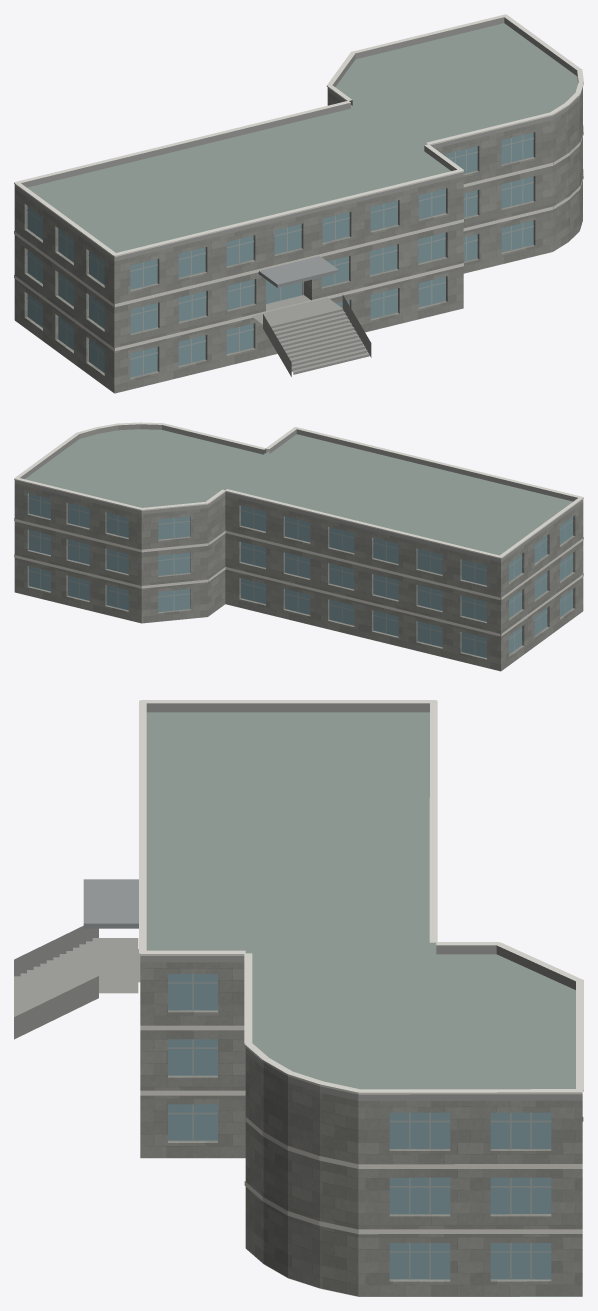
The picture shows the model from 3 angles, top to bottom: view 1: azimuth 30°, elevation 25°; view 2: azimuth 150°, elevation 25°; view 3: azimuth 270°, elevation 25°; orthographic projection. The views are drawn at different scales.
Visible parts, largest first — view 1: rotc__wall, rotc__roof, rotc__glass, rotc__trim, rotc__parapet, rotc__externalStairRisers, rotc__externalStairTreads, rotc__frame, rotc__canopy, rotc__externalStairLanding, rotc__externalStairSides; view 2: rotc__wall, rotc__roof, rotc__glass, rotc__trim, rotc__parapet, rotc__frame; view 3: rotc__roof, rotc__wall, rotc__glass, rotc__trim, rotc__parapet, rotc__externalStairSides, rotc__externalStairTreads, rotc__canopy, rotc__frame, rotc__externalStairLanding.
Boxes of the visible parts, <box> form: rotc__wall: <box>14,89,582,393</box>; rotc__roof: <box>16,23,578,393</box>; rotc__glass: <box>27,132,533,377</box>; rotc__trim: <box>14,14,583,351</box>; rotc__parapet: <box>14,17,582,261</box>; rotc__externalStairRisers: <box>271,309,369,374</box>; rotc__externalStairTreads: <box>270,307,369,372</box>; rotc__frame: <box>27,135,533,374</box>; rotc__canopy: <box>258,256,338,287</box>; rotc__externalStairLanding: <box>252,297,340,324</box>; rotc__externalStairSides: <box>263,294,371,376</box>; rotc__wall: <box>14,483,583,671</box>; rotc__roof: <box>16,429,582,671</box>; rotc__glass: <box>29,493,572,657</box>; rotc__trim: <box>14,422,583,636</box>; rotc__parapet: <box>14,424,583,562</box>; rotc__frame: <box>29,496,573,655</box>; rotc__roof: <box>140,712,582,1296</box>; rotc__wall: <box>140,962,582,1296</box>; rotc__glass: <box>168,974,551,1279</box>; rotc__trim: <box>139,700,583,1234</box>; rotc__parapet: <box>140,703,582,1100</box>; rotc__externalStairSides: <box>14,926,98,1039</box>; rotc__externalStairTreads: <box>14,938,98,1016</box>; rotc__canopy: <box>83,879,138,928</box>; rotc__frame: <box>168,974,551,1279</box>; rotc__externalStairLanding: <box>99,938,138,993</box>.
Bounding box in the file's own units: 42.59 × 10.37 × 26.14.
13 materials, 1 textured.
